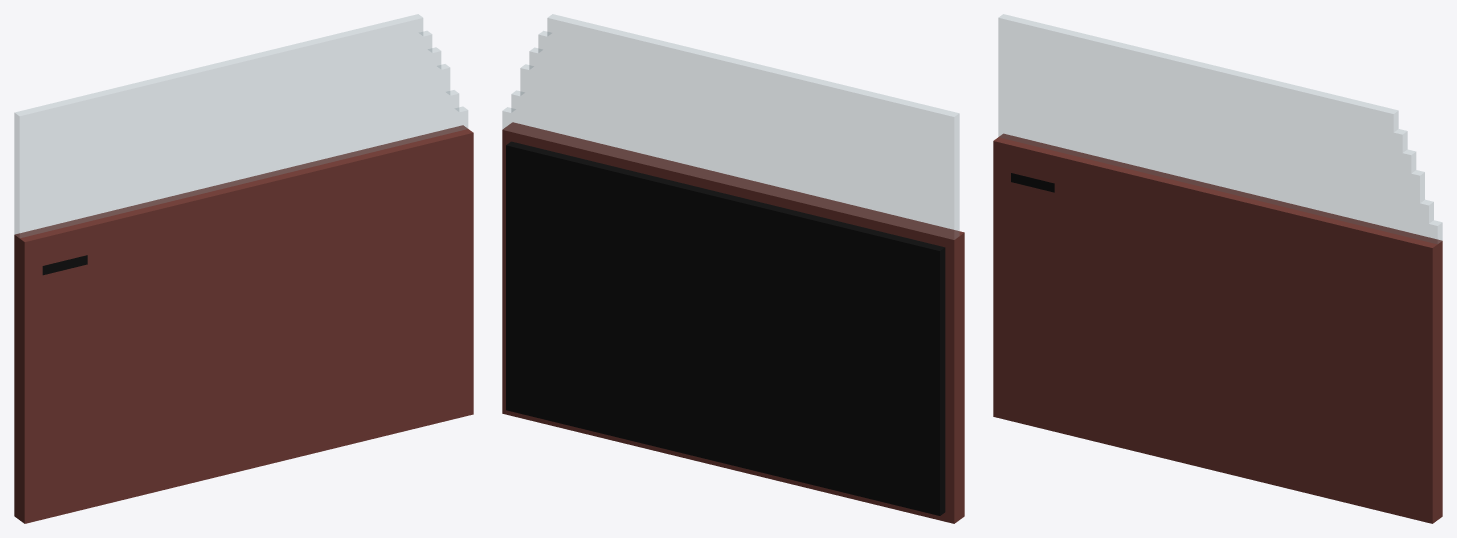
File: car_transporter_door.glb
3 renders of one model, left to right at view 1: azimuth 30°, elevation 25°; view 2: azimuth 150°, elevation 25°; view 3: azimuth 330°, elevation 25°, orthographic. The views are drawn at different scales.
Visible parts, largest first — view 1: body:compound; view 2: body:compound; view 3: body:compound.
Part boxes in pixels (x1=…): body:compound: x1=14, y1=14, x2=473, y2=523; body:compound: x1=502, y1=14, x2=964, y2=523; body:compound: x1=993, y1=14, x2=1442, y2=523.
Bounding box in the file's own units: 1.56 × 1.34 × 0.0938.
